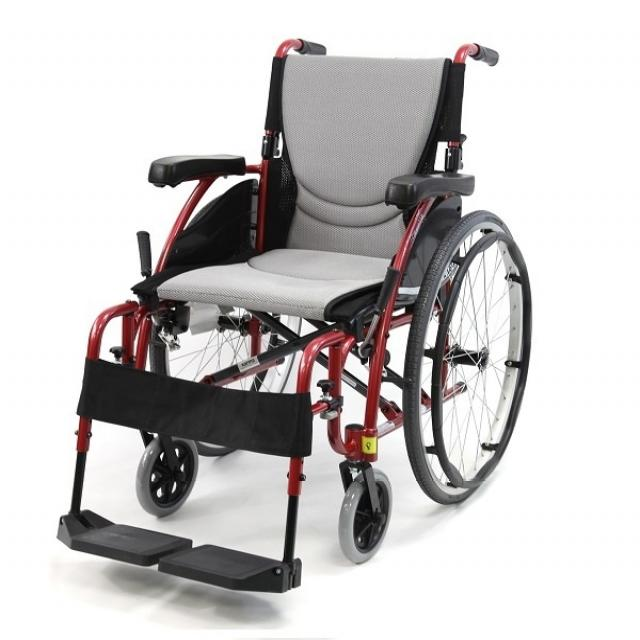wheelchair: (48, 16, 540, 602)
